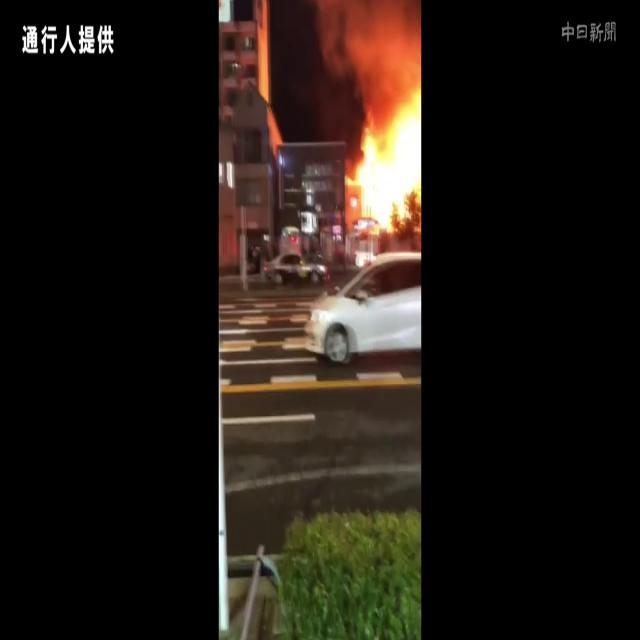Fire: (340, 76, 422, 241)
Smoke: (310, 2, 422, 108)
